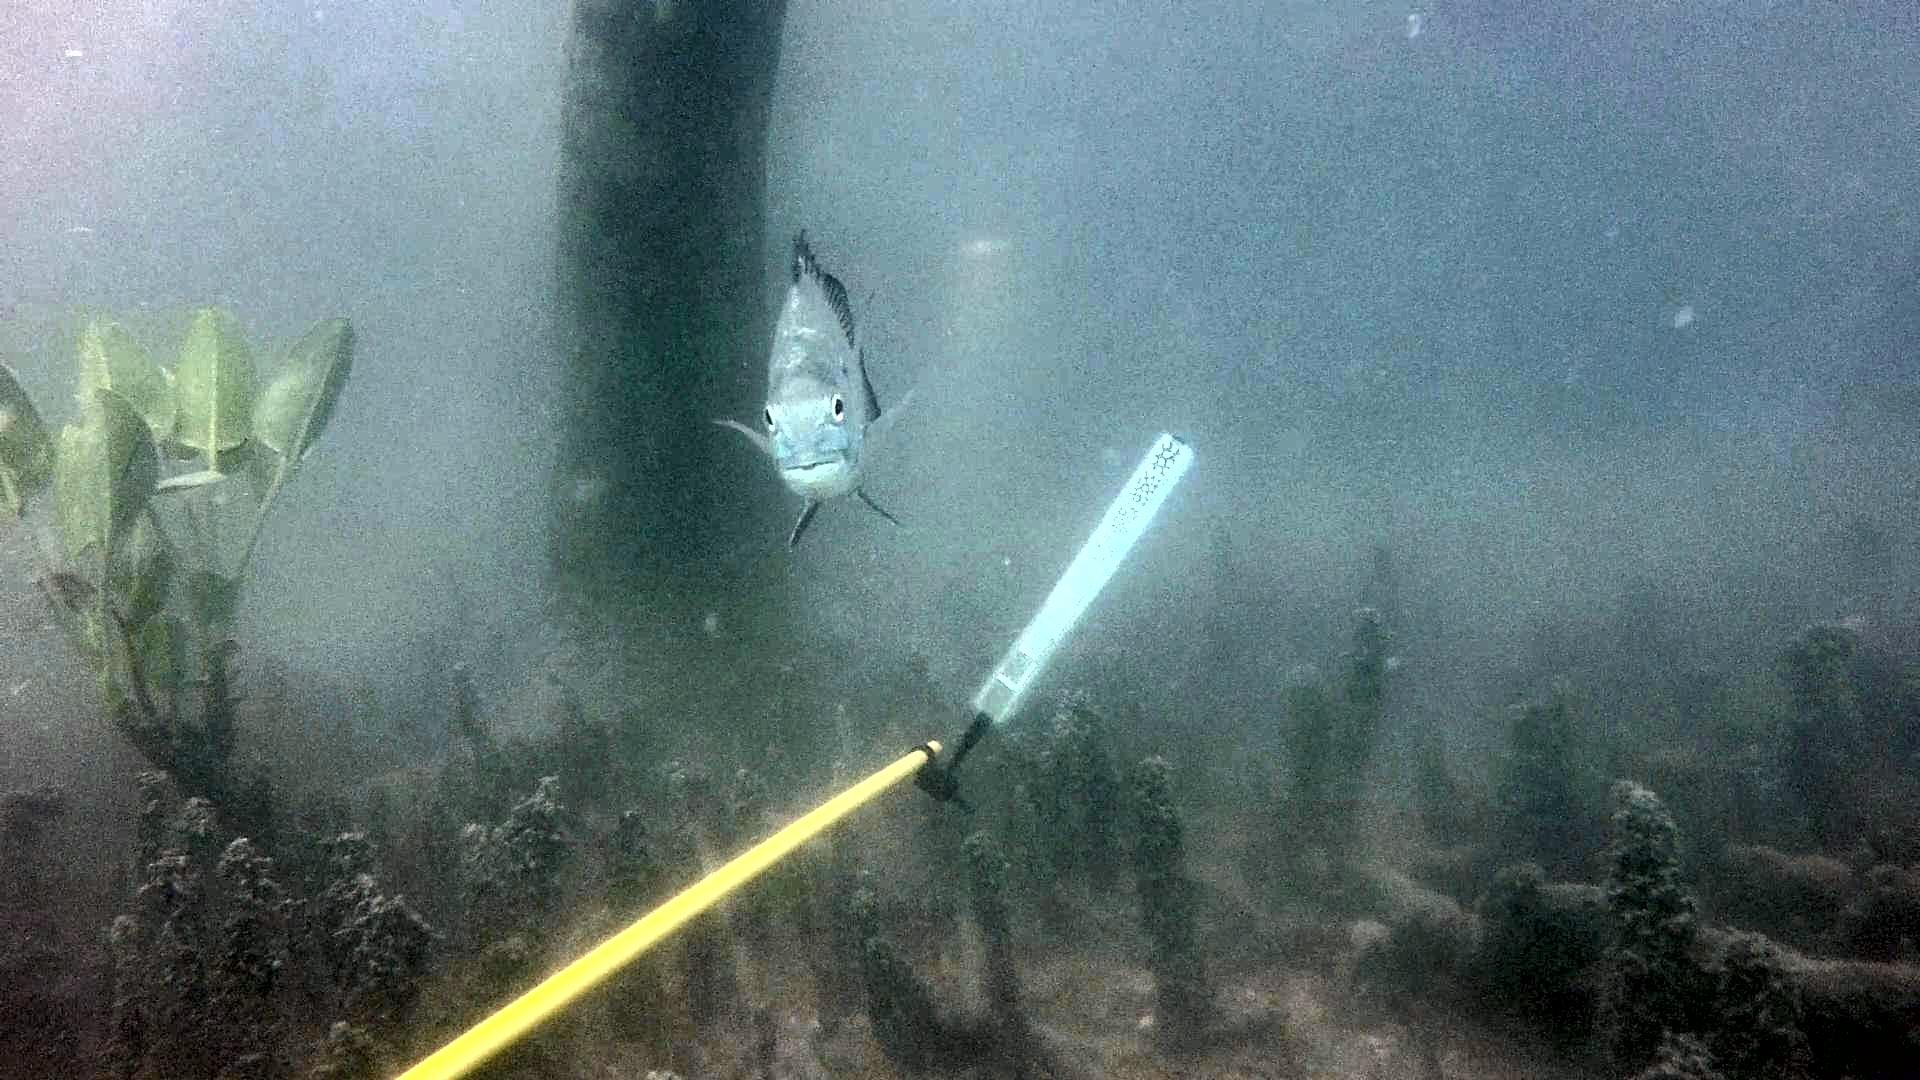acanthopagrus palmaris: (708, 218, 938, 556)
